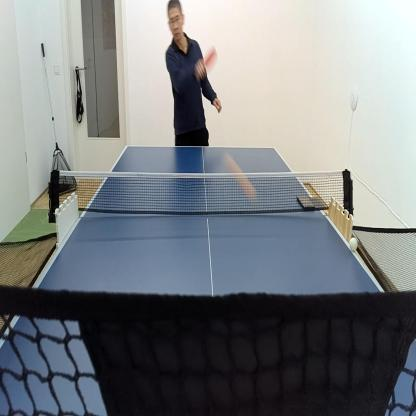Ball: (225, 148, 258, 205), (350, 235, 358, 253)
